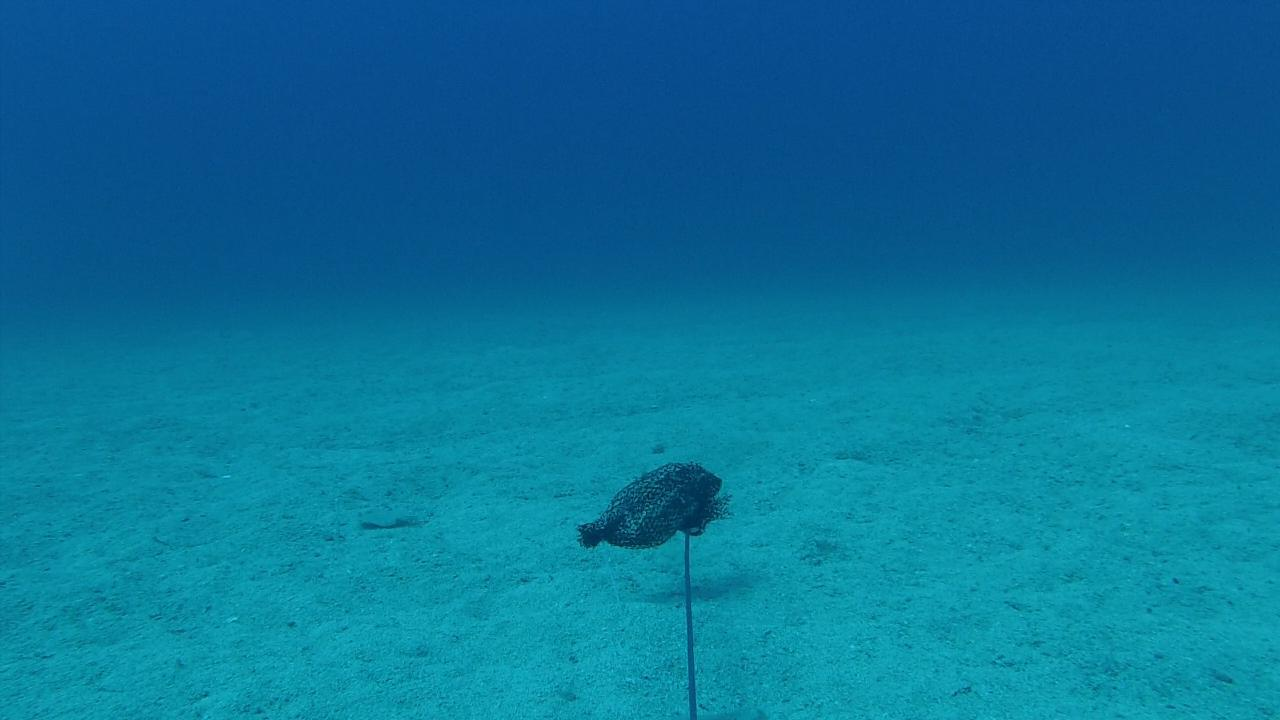bothus: (353, 501, 435, 530)
